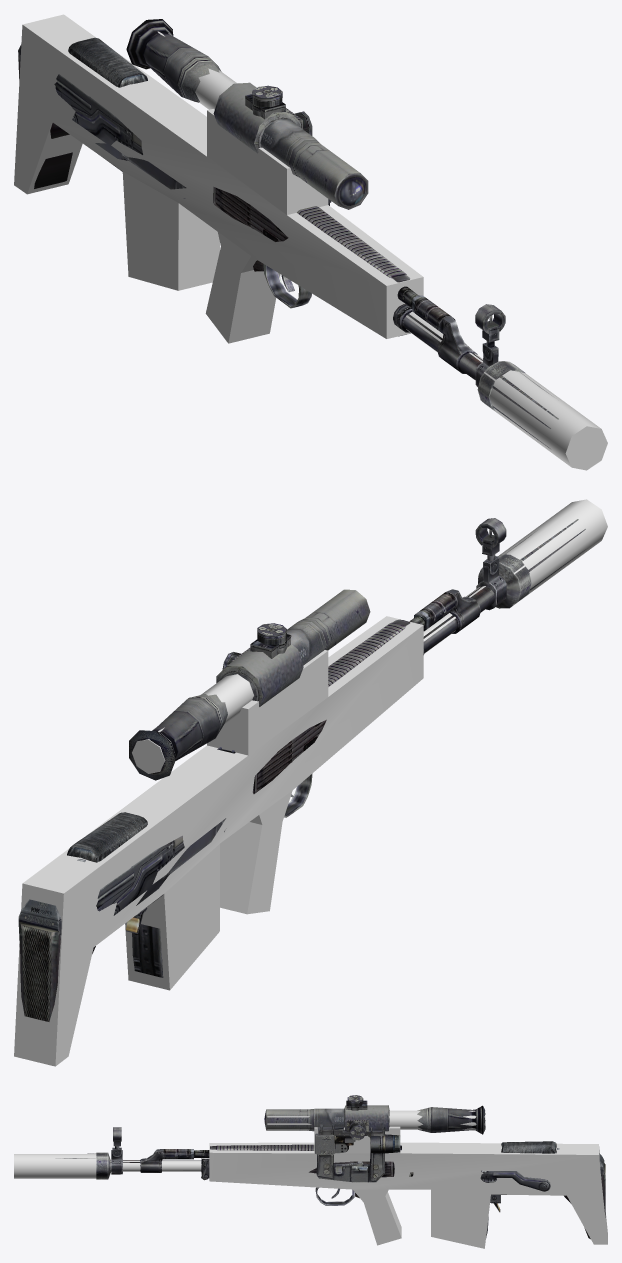
The model's file is svu.FBX.
The picture shows the model from 3 angles, top to bottom: view 1: azimuth 30°, elevation 25°; view 2: azimuth 150°, elevation 25°; view 3: azimuth 270°, elevation 25°; orthographic projection. The views are drawn at different scales.
Visible parts, largest first — view 1: lod, wpn_svu; view 2: lod, wpn_svu; view 3: lod, wpn_svu.
Boxes of the visible parts, left/top/right/bottom form: lod: left=14, top=14, right=607, bottom=470; wpn_svu: left=18, top=19, right=558, bottom=448; lod: left=14, top=499, right=607, bottom=1066; wpn_svu: left=18, top=518, right=585, bottom=1021; lod: left=14, top=1110, right=607, bottom=1248; wpn_svu: left=55, top=1095, right=605, bottom=1239.
Size of the model in its own units: 5.83 by 23.84 by 88.89.
